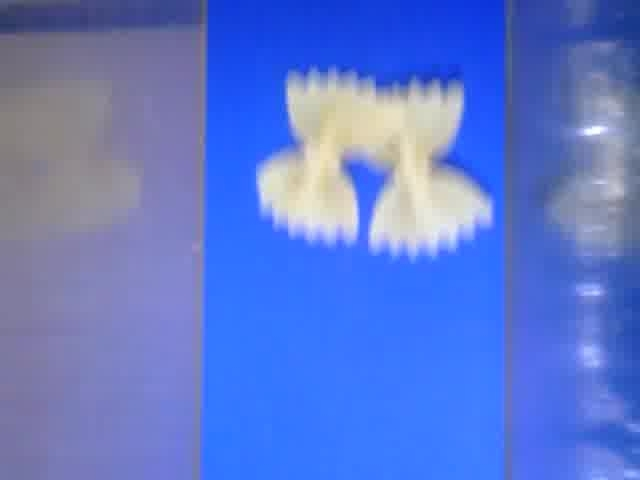farfalle: (364, 76, 495, 254), (257, 68, 379, 241)
